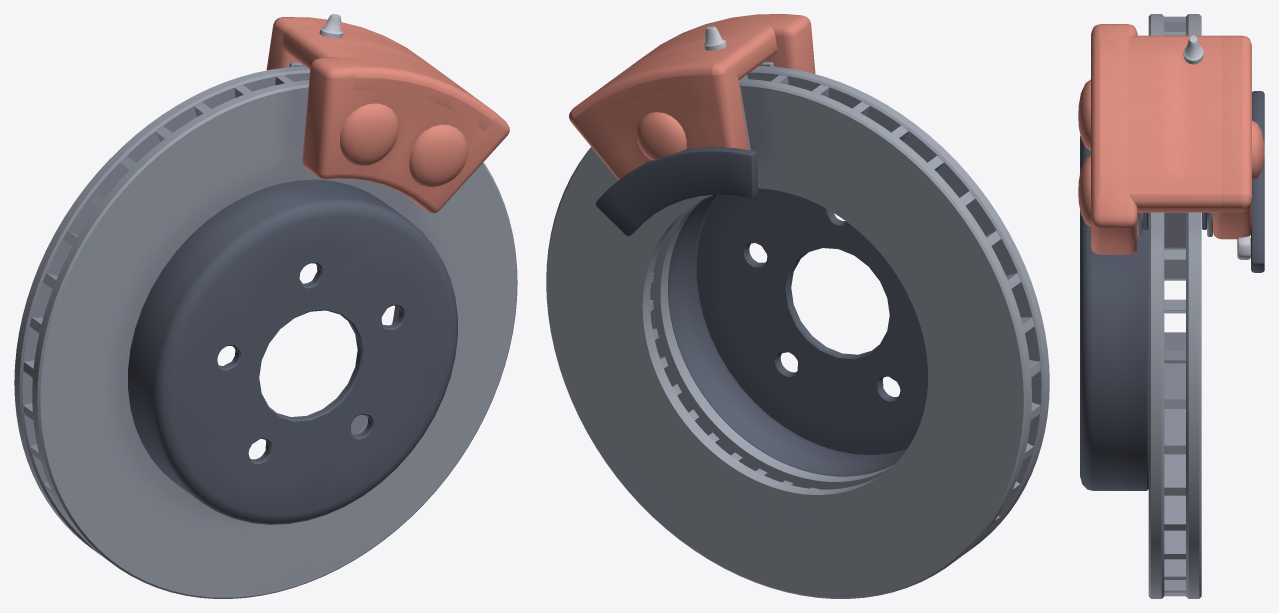
Rendered from brake-disc.glb.
3 views of the same model, side by side, from view 1: azimuth 30°, elevation 25°; view 2: azimuth 150°, elevation 25°; view 3: azimuth 270°, elevation 25° (orthographic). The views are drawn at different scales.
Visible parts, largest first — view 1: brake-disc_body; view 2: brake-disc_body; view 3: brake-disc_body.
Part boxes in pixels (x1,y1,x2,y2): brake-disc_body: (14,14,517,598); brake-disc_body: (546,14,1049,598); brake-disc_body: (1078,14,1264,598).
Bounding box in the file's own units: 0.32 × 0.3466 × 0.102.
Materials: 1 (1 with a texture image).
